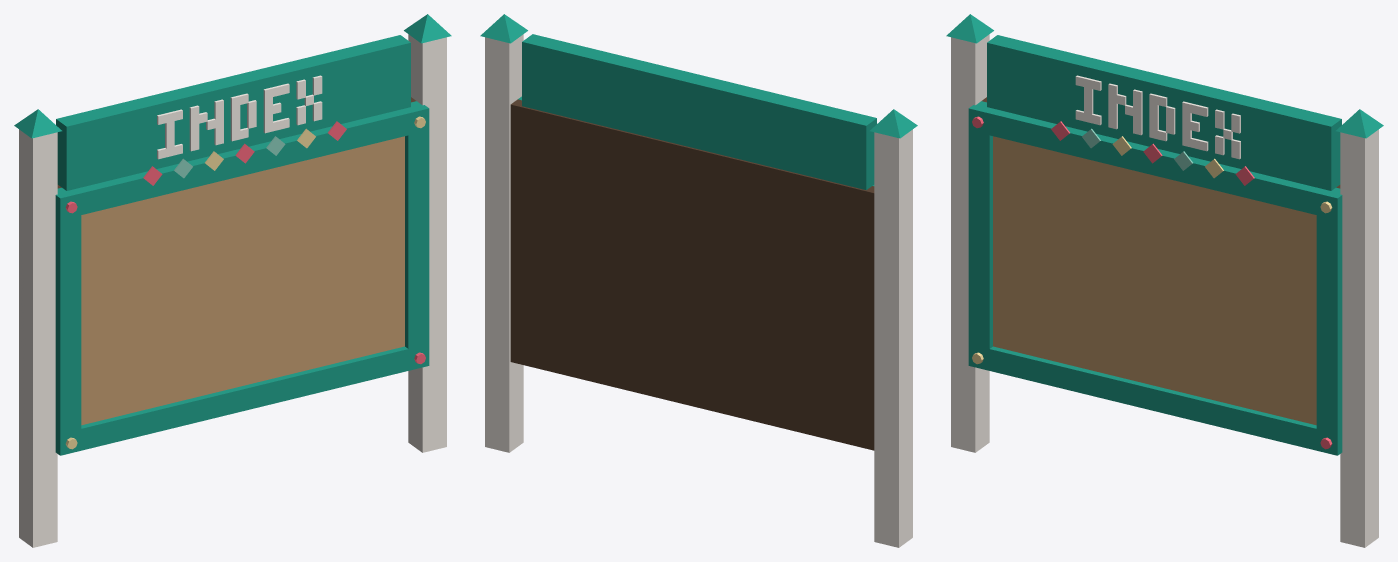
The model's file is CatCafe_Neighbourhood_IndexBoard.glb.
The picture shows the model from 3 angles, left to right: view 1: azimuth 30°, elevation 25°; view 2: azimuth 150°, elevation 25°; view 3: azimuth 330°, elevation 25°; orthographic projection.
Visible parts, largest first — view 1: CatCafe_Neighbourhood_IndexBoard, CatCafe_Neighbourhood_IndexBoard_Screen; view 2: CatCafe_Neighbourhood_IndexBoard; view 3: CatCafe_Neighbourhood_IndexBoard, CatCafe_Neighbourhood_IndexBoard_Screen.
Part boxes in pixels (x1,y1,x2,y2): CatCafe_Neighbourhood_IndexBoard: (14,14,451,547); CatCafe_Neighbourhood_IndexBoard_Screen: (81,136,404,425); CatCafe_Neighbourhood_IndexBoard: (480,14,917,547); CatCafe_Neighbourhood_IndexBoard: (946,14,1383,547); CatCafe_Neighbourhood_IndexBoard_Screen: (993,136,1316,425).
Bounding box in the file's own units: 10.25 × 10.04 × 0.965.
Materials: 1 (1 with a texture image).
